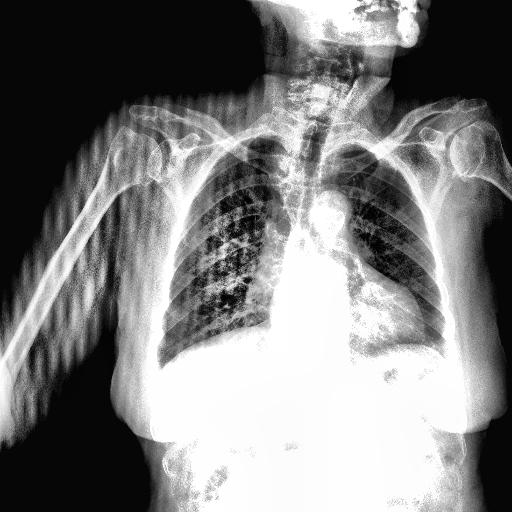2- Calcification: (327, 201, 351, 238)
3- Cardiomegaly: (266, 272, 428, 349)
7- Lung Opacity: (416, 328, 454, 366)
